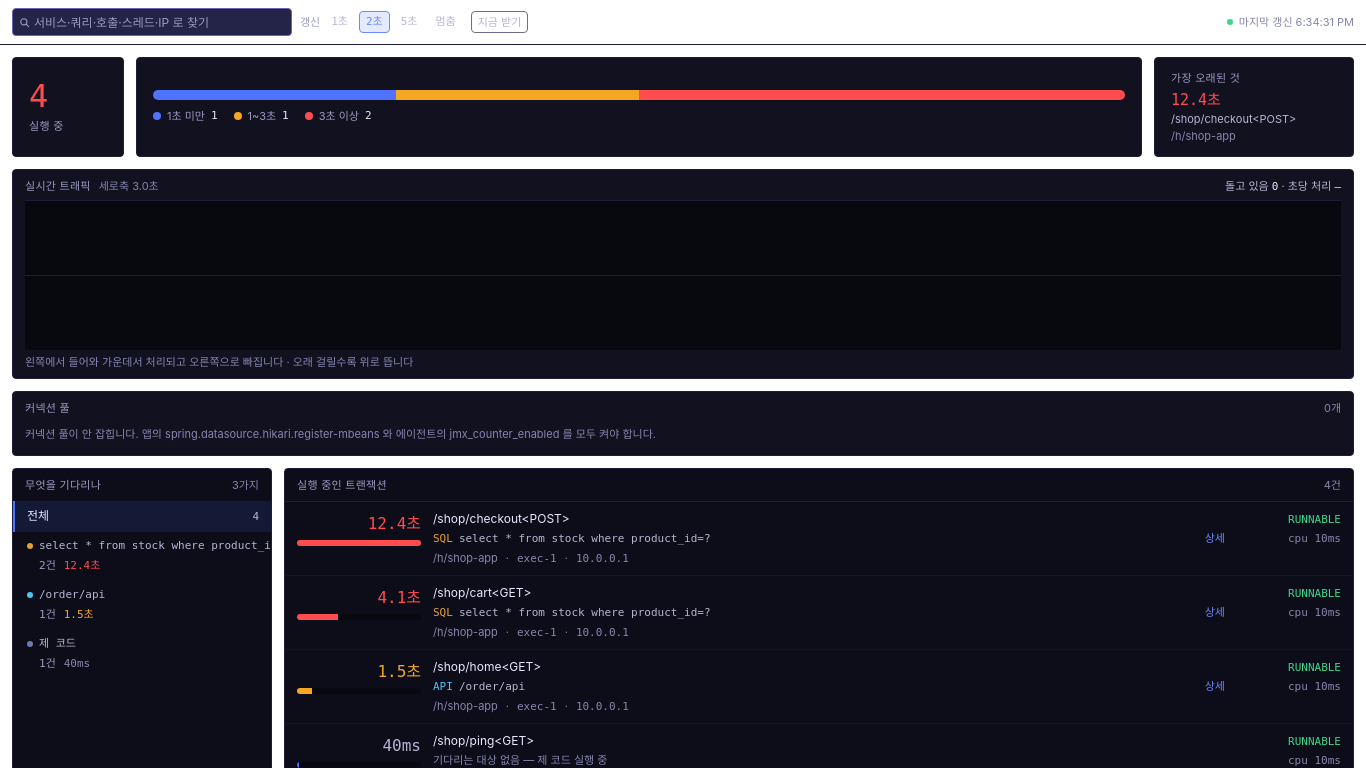
Scenario: ActiveTab — 리소스로 접기 › 묶음을 고르면 목록만 줄고, 전체 수는 그대로 보인다
Click the button "select * from stock where product_id=? 2건 12.4초" at (142, 556), box 13,532 -> 271,580
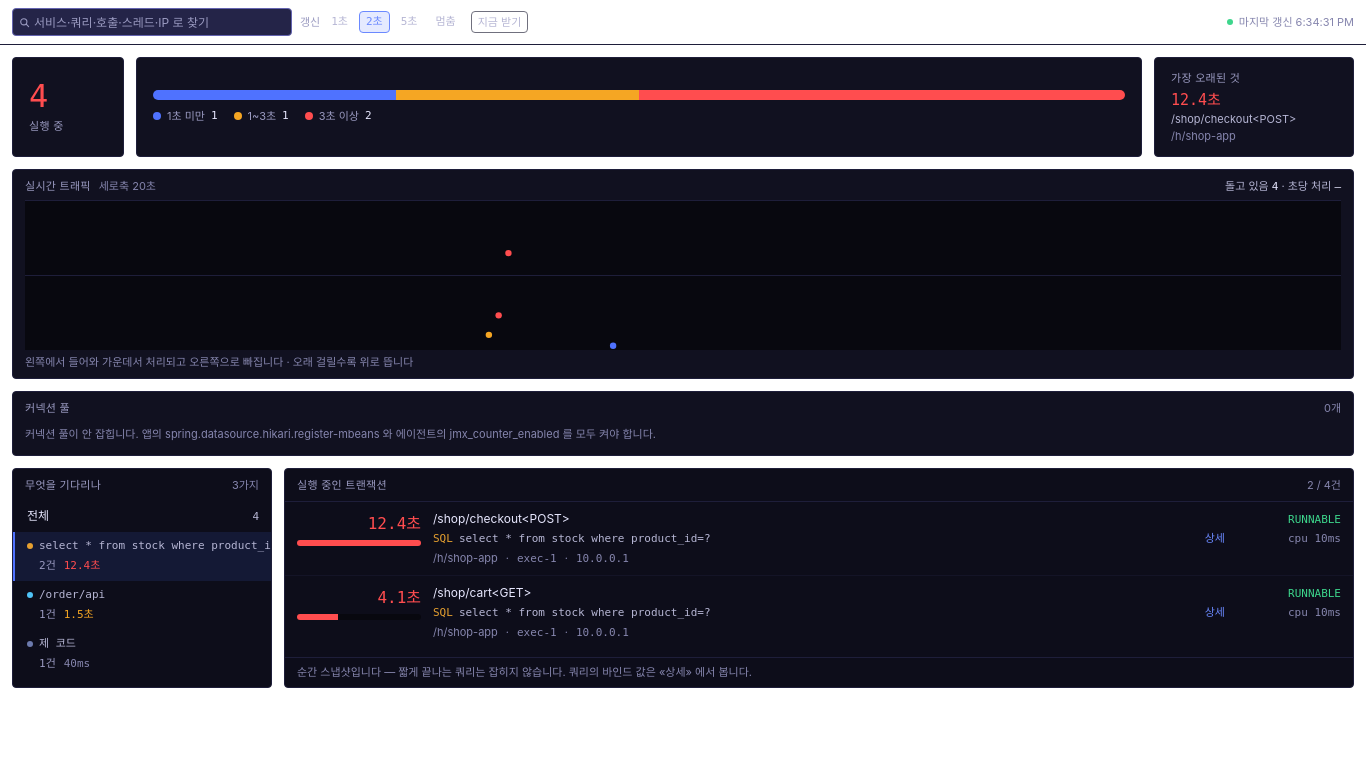
Check: the text "2 / 4건" is shown, box 1307,476 -> 1341,493
Check: the button "/shop/ping<GET>" is gone
